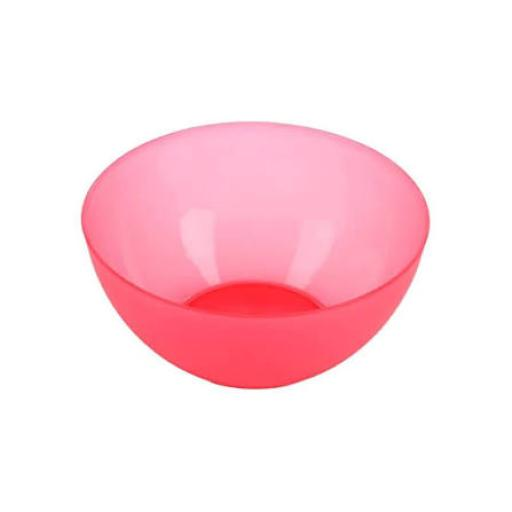Bowl: (82, 123, 428, 388)
